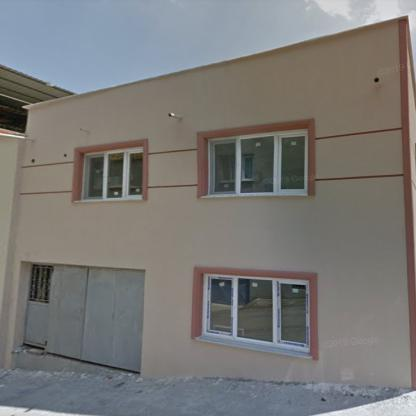door: (24, 264, 53, 348)
window: (202, 274, 308, 354), (208, 129, 306, 195), (81, 146, 143, 201)
